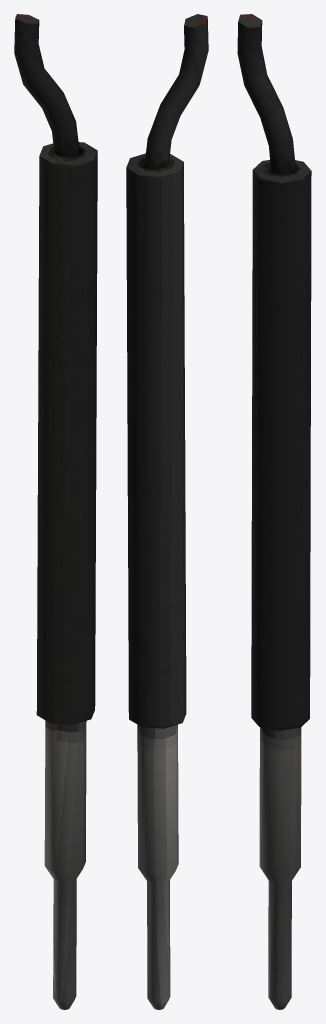
File: shup_black.fbx
3 views of the same model, side by side, from view 1: azimuth 30°, elevation 25°; view 2: azimuth 210°, elevation 25°; view 3: azimuth 330°, elevation 25° (orthographic).
Visible parts, largest first — view 1: shup_black; view 2: shup_black; view 3: shup_black.
Part boxes in pixels (bbox=[...]): shup_black: bbox=[14, 14, 97, 1009]; shup_black: bbox=[126, 14, 208, 1009]; shup_black: bbox=[237, 14, 311, 1009].
Bounding box in the file's own units: 0.00846 × 0.1095 × 0.00581.
1 material, 1 textured.
